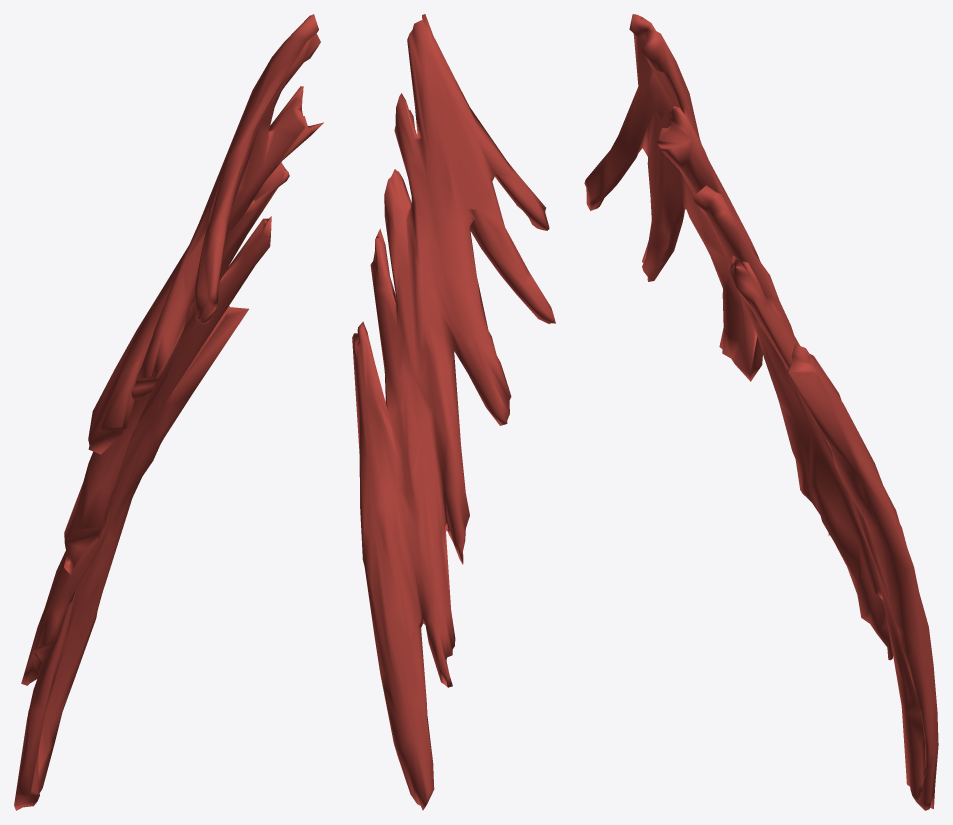
File: musculos-semispinalis-colli-muscle-r.glb
The picture shows the model from 3 angles, left to right: view 1: azimuth 30°, elevation 25°; view 2: azimuth 150°, elevation 25°; view 3: azimuth 270°, elevation 25°; orthographic projection. The views are drawn at different scales.
Visible parts, largest first — view 1: Semispinalis colli muscle.r; view 2: Semispinalis colli muscle.r; view 3: Semispinalis colli muscle.r.
Part boxes in pixels (bbox=[...]): Semispinalis colli muscle.r: bbox=[14, 14, 323, 810]; Semispinalis colli muscle.r: bbox=[352, 14, 555, 810]; Semispinalis colli muscle.r: bbox=[584, 14, 938, 810].
Bounding box in the file's own units: 0.034 × 0.1425 × 0.0527.
